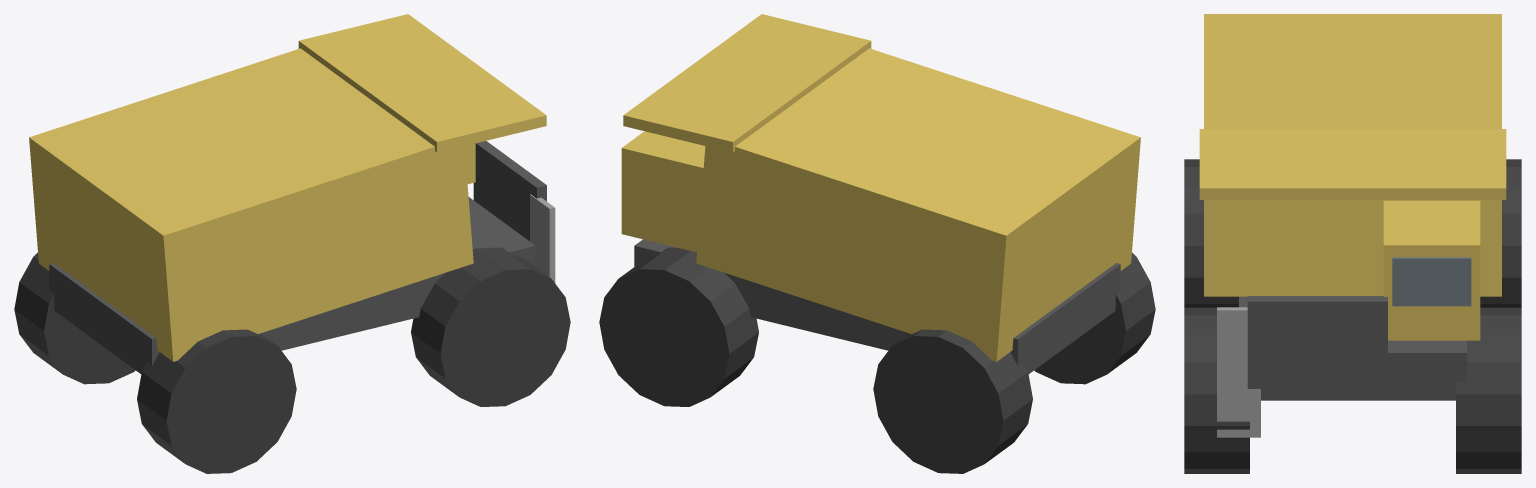
Rendered from HaulTruck.glb.
3 views of the same model, side by side, from view 1: azimuth 30°, elevation 25°; view 2: azimuth 150°, elevation 25°; view 3: azimuth 270°, elevation 25° (orthographic). The views are drawn at different scales.
Parts seen in each view (by area): view 1: Dump body, Wheel.002, Wheel, Canopy, Chassis, Wheel.001, Grille, Ladder; view 2: Dump body, Wheel.003, Wheel.001, Canopy, Chassis, Cab, Wheel; view 3: Dump body, Canopy, Grille, Cab, Wheel.003, Wheel.002, Chassis, Ladder, Cab glass, Wheel, Wheel.001.
Part boxes in pixels (bbox=[...]): Dump body: bbox=[29, 48, 473, 361]; Wheel.002: bbox=[411, 247, 570, 406]; Wheel: bbox=[137, 329, 296, 473]; Canopy: bbox=[298, 14, 546, 152]; Chassis: bbox=[49, 197, 535, 373]; Wheel.001: bbox=[14, 252, 135, 384]; Grille: bbox=[473, 141, 546, 241]; Ladder: bbox=[530, 194, 555, 282]; Dump body: bbox=[696, 48, 1140, 361]; Wheel.003: bbox=[599, 247, 758, 406]; Wheel.001: bbox=[873, 329, 1032, 473]; Canopy: bbox=[623, 14, 871, 152]; Chassis: bbox=[634, 239, 1120, 373]; Cab: bbox=[621, 131, 705, 252]; Wheel: bbox=[1034, 252, 1155, 384]; Dump body: bbox=[1204, 14, 1501, 296]; Canopy: bbox=[1199, 129, 1506, 199]; Grille: bbox=[1247, 296, 1387, 388]; Cab: bbox=[1383, 200, 1480, 340]; Wheel.003: bbox=[1456, 307, 1521, 473]; Wheel.002: bbox=[1184, 307, 1249, 473]; Chassis: bbox=[1239, 296, 1466, 400]; Ladder: bbox=[1217, 307, 1260, 437]; Cab glass: bbox=[1392, 257, 1471, 306]; Wheel: bbox=[1184, 159, 1238, 307]; Wheel.001: bbox=[1480, 159, 1521, 307].
Size of the model in its own units: 5.98 by 3.83 by 3.85.
